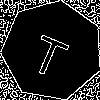T: (27, 25, 74, 80)
